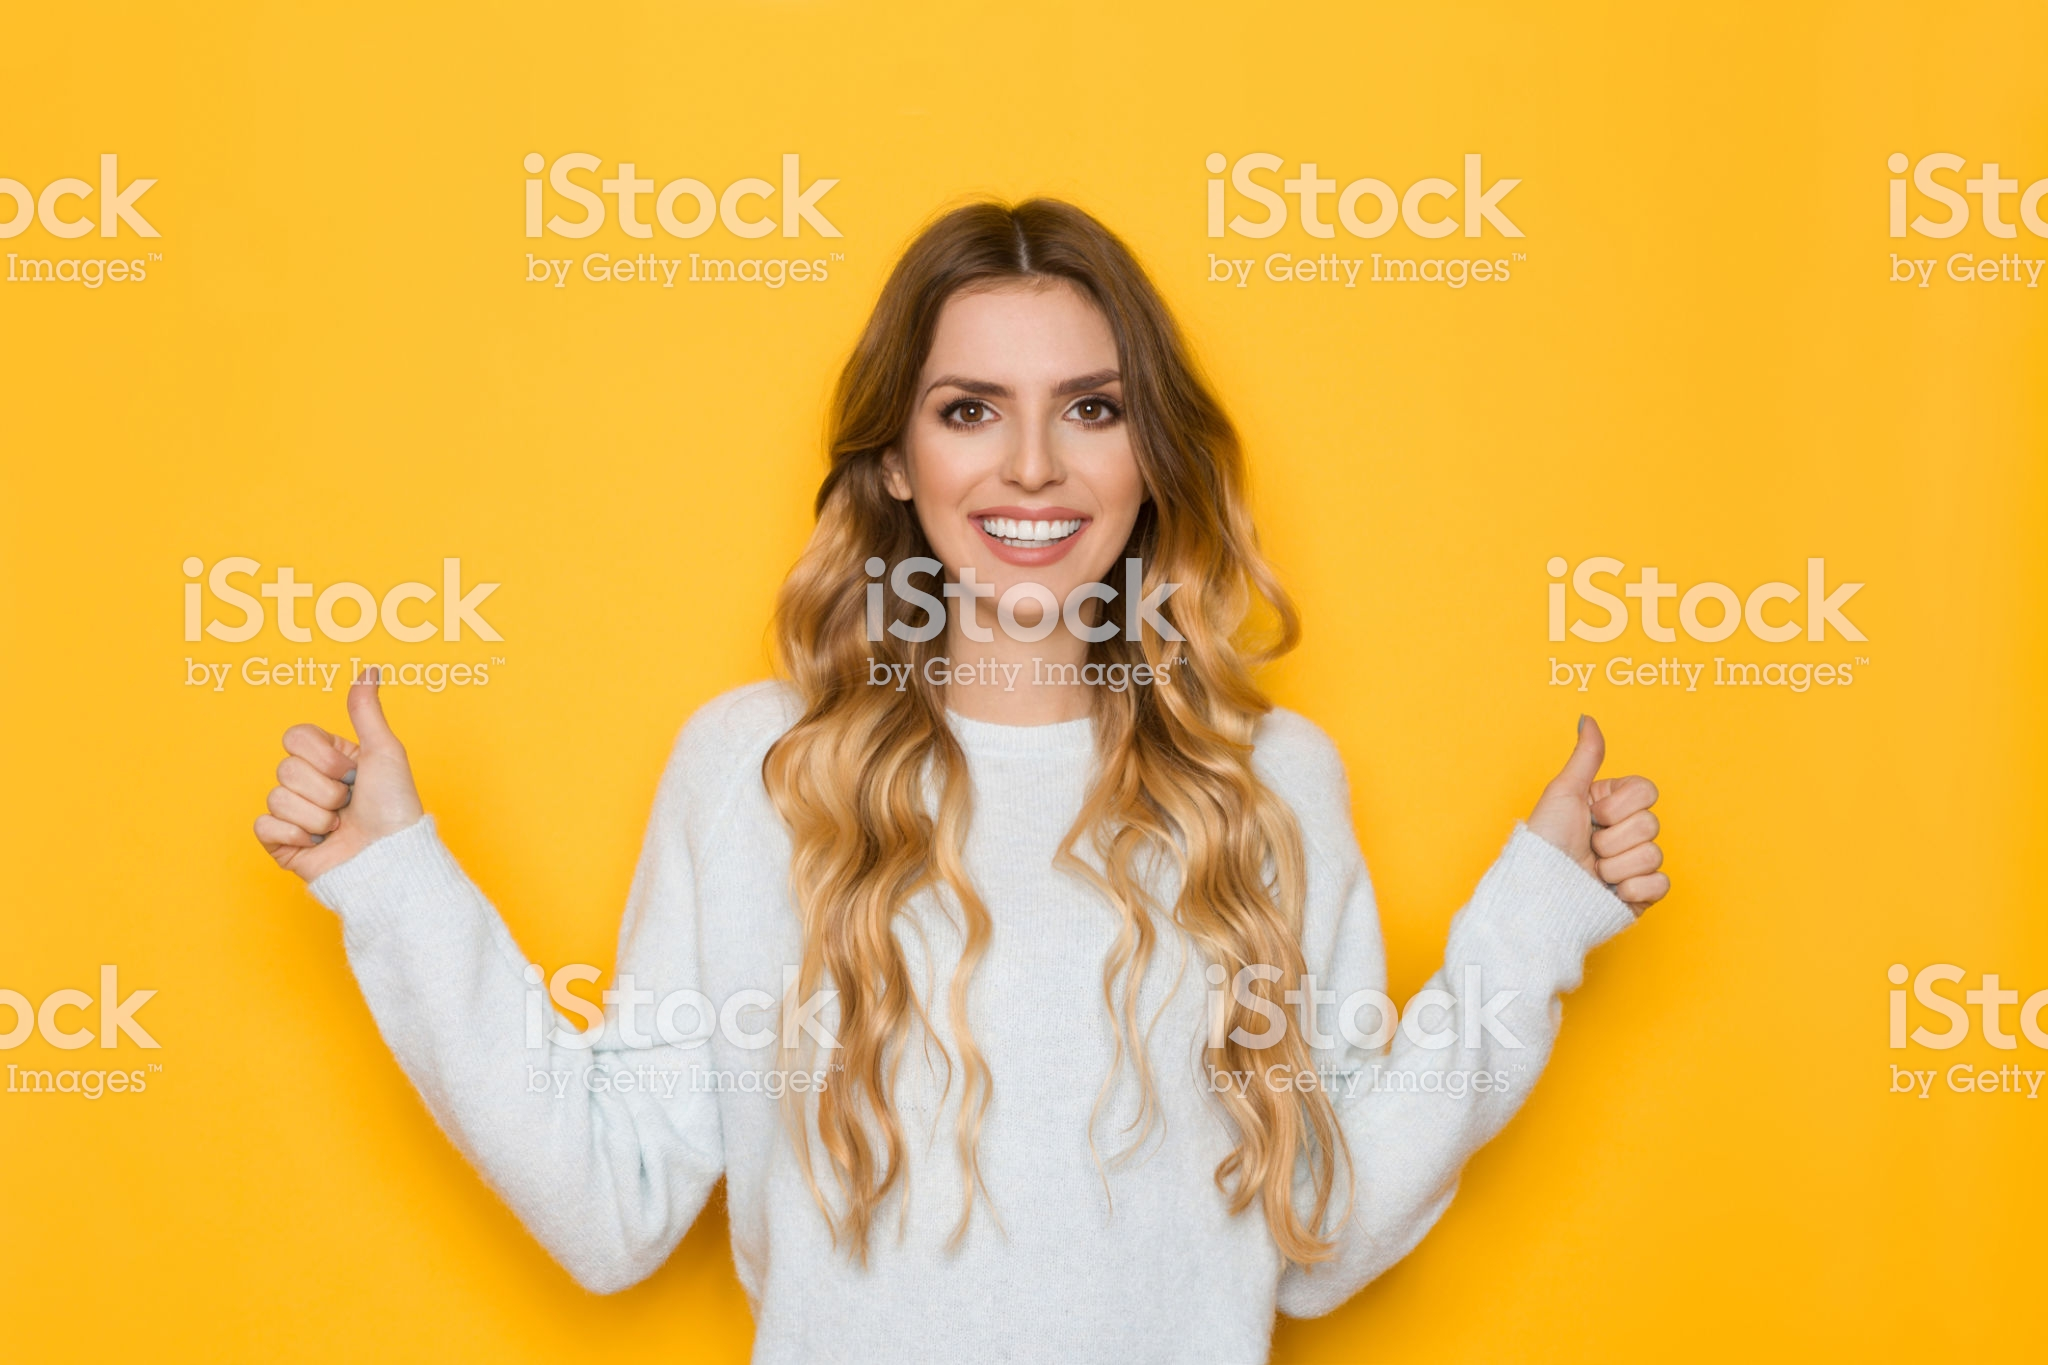thumbsup: (251, 663, 404, 881), (1527, 710, 1673, 916)
